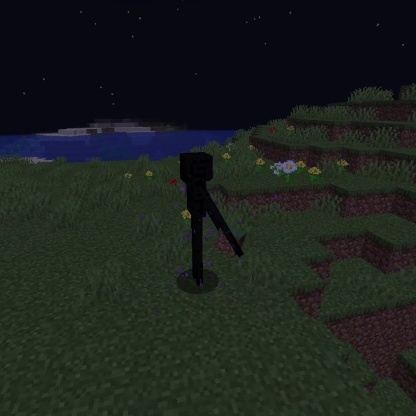enderman: (177, 150, 246, 289)
